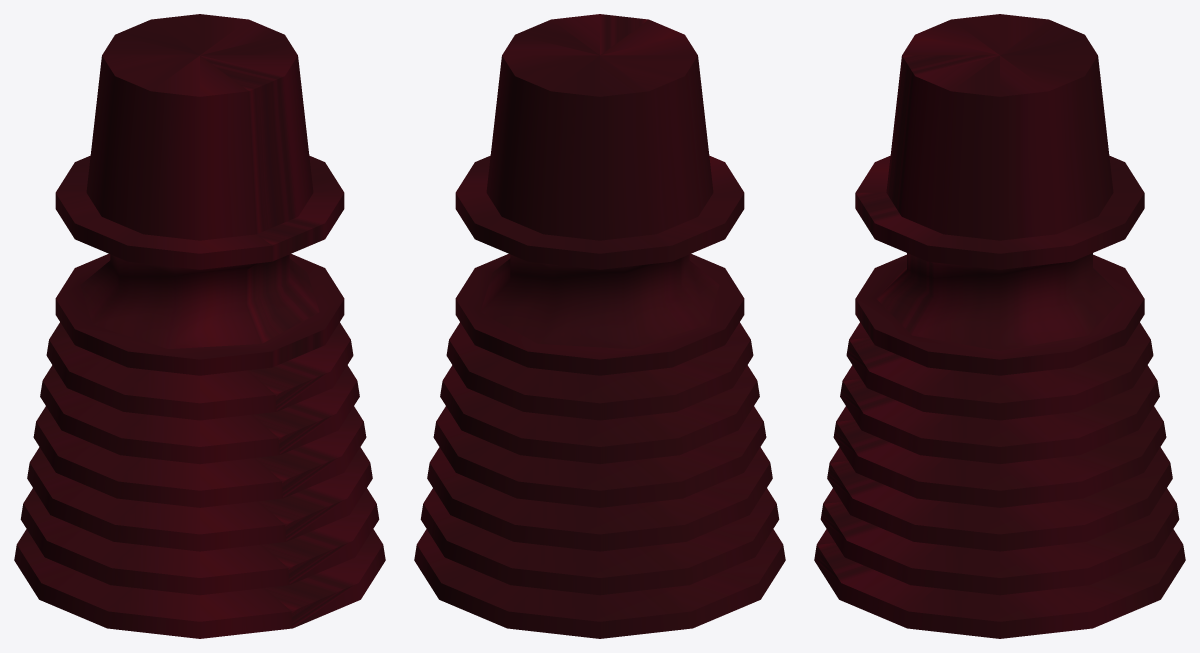
Rendered from PegPlasticT9.fbx.
The picture shows the model from 3 angles, left to right: view 1: azimuth 30°, elevation 25°; view 2: azimuth 150°, elevation 25°; view 3: azimuth 270°, elevation 25°; orthographic projection.
Visible parts, largest first — view 1: PegPlasticT9; view 2: PegPlasticT9; view 3: PegPlasticT9.
Boxes of the visible parts, x1,y1,x2,y2 form: PegPlasticT9: (14,14,385,638); PegPlasticT9: (414,14,785,638); PegPlasticT9: (814,14,1185,638).
Size of the model in its own units: 1.85 by 2.77 by 1.85.
1 material, 1 textured.
